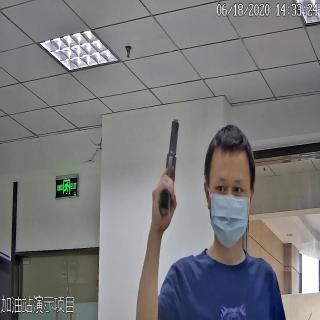gun: (157, 114, 186, 216)
